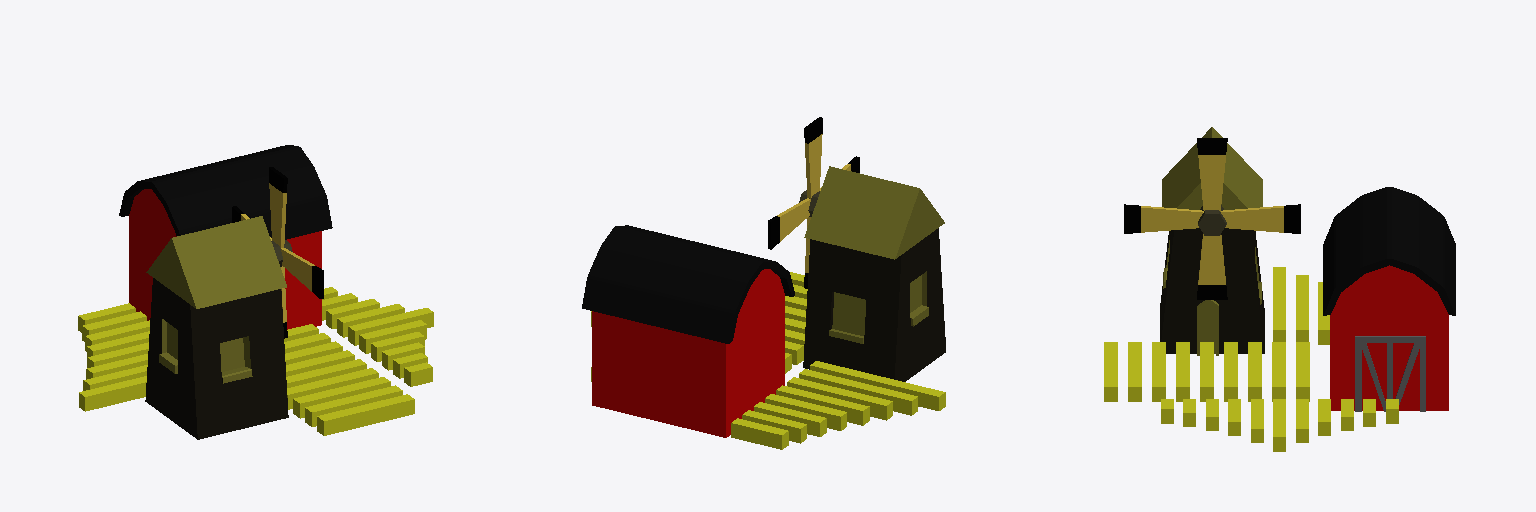
File: farm.obj
3 views of the same model, side by side, from view 1: azimuth 30°, elevation 25°; view 2: azimuth 150°, elevation 25°; view 3: azimuth 270°, elevation 25° (orthographic).
Visible parts, largest first — view 1: Cube, Cube.004, Cube.003, Cube.005, Cube.006, Cube.002, Cube.001; view 2: Cube.004, Cube, Cube.005, Cube.001, Cube.003; view 3: Cube.004, Cube, Cube.003, Cube.001, Cube.002, Cube.005, Cube.006, Cylinder.
Part boxes in pixels (x1,y1,x2,y2): Cube: (145,216,288,439); Cube.004: (119,145,332,329); Cube.003: (284,324,414,435); Cube.005: (78,303,149,411); Cube.006: (348,309,433,386); Cube.002: (322,287,433,345); Cube.001: (232,167,323,338); Cube.004: (582,225,794,437); Cube: (803,166,945,381); Cube.005: (731,361,945,449); Cube.001: (768,117,859,288); Cube.003: (785,272,807,373); Cube.004: (1323,187,1455,411); Cube: (1160,127,1264,355); Cube.003: (1104,342,1309,401); Cube.001: (1124,138,1300,299); Cube.002: (1273,399,1398,451); Cube.005: (1273,267,1329,344); Cube.006: (1161,399,1285,451); Cylinder: (1198,205,1226,235).
Bounding box in the file's own units: 1.89 × 1.15 × 1.65.